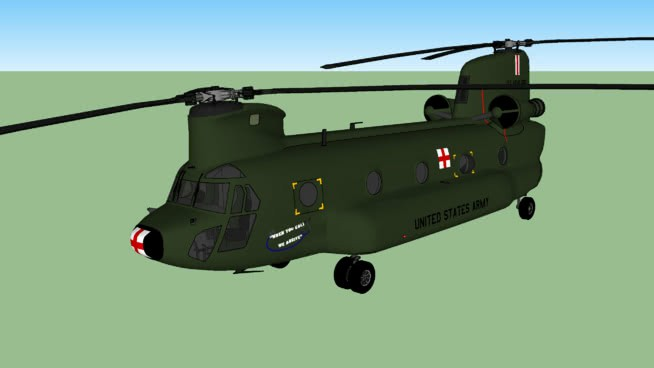chinook: (106, 35, 635, 295)
